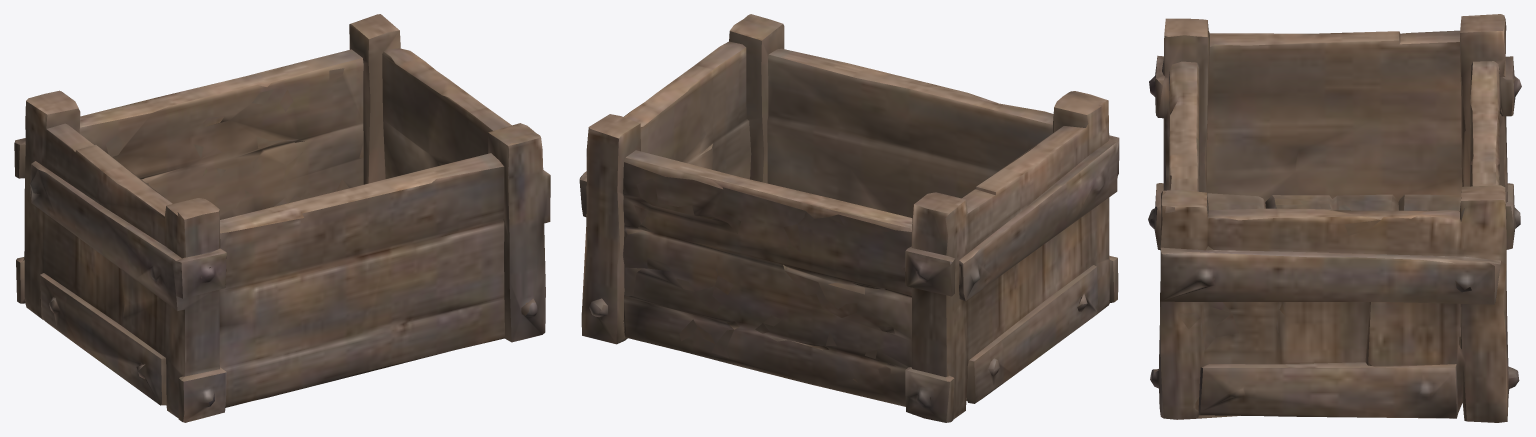
3 views of the same model, side by side, from view 1: azimuth 30°, elevation 25°; view 2: azimuth 150°, elevation 25°; view 3: azimuth 270°, elevation 25° (orthographic). The views are drawn at different scales.
Visible parts, largest first — view 1: geometry_0; view 2: geometry_0; view 3: geometry_0.
Part boxes in pixels (box(x1,y1,x2,y2)): geometry_0: box(14, 14, 550, 422); geometry_0: box(579, 14, 1119, 422); geometry_0: box(1148, 14, 1521, 422).
Bounding box in the file's own units: 0.5986 × 0.312 × 0.4754.
1 material, 1 textured.
